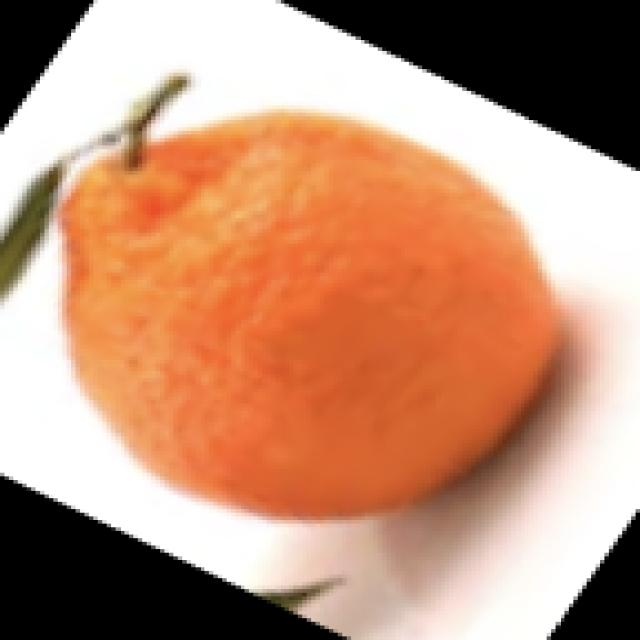fresh: (21, 66, 574, 540)
